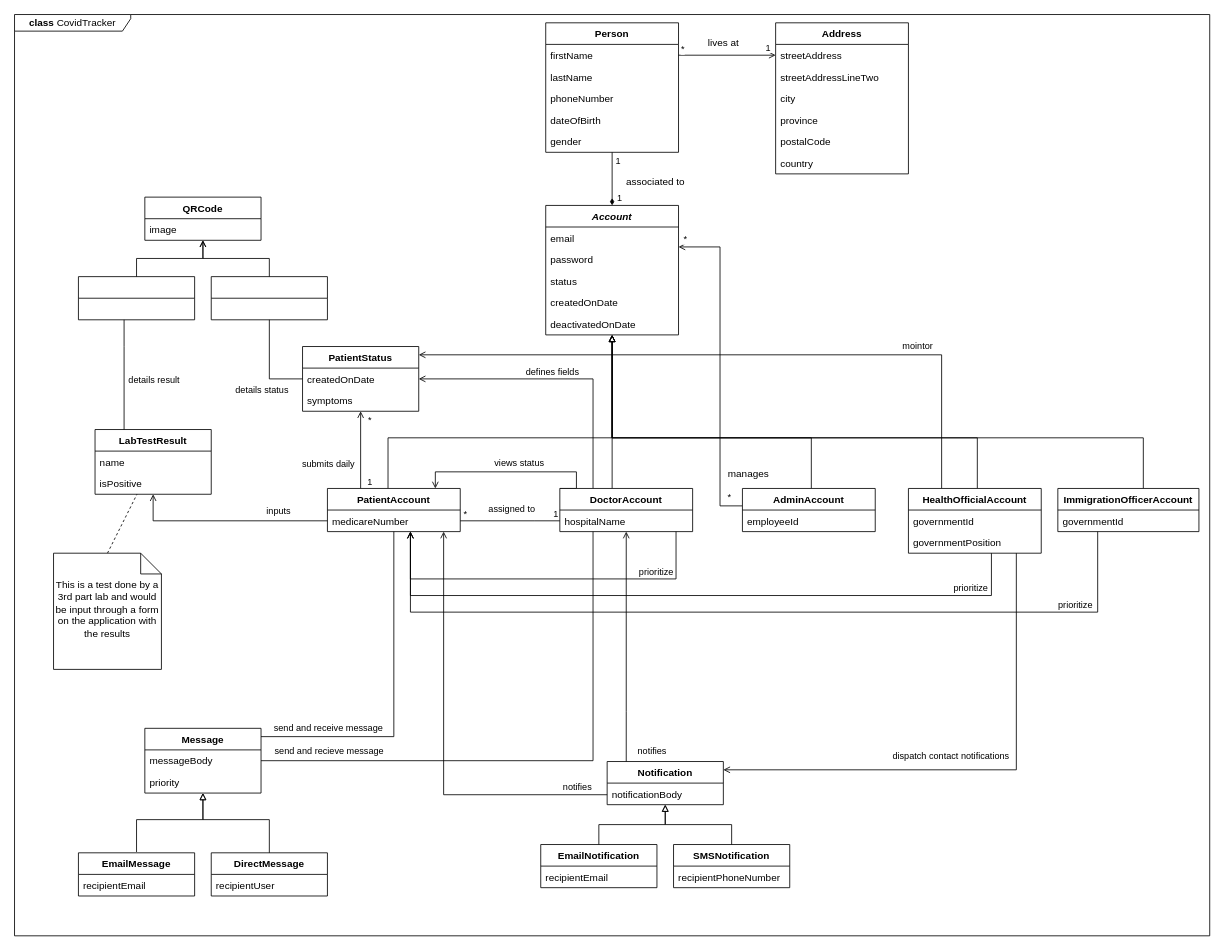
The diagram is 1224 pixels wide and 950 high, and some of its shapes have lost their labels. The centre of each missing label's shape, as x and y in pixels:
"LabTestQRCode" belongs at point (136, 298).
"SymptomQRCode" belongs at point (268, 298).
